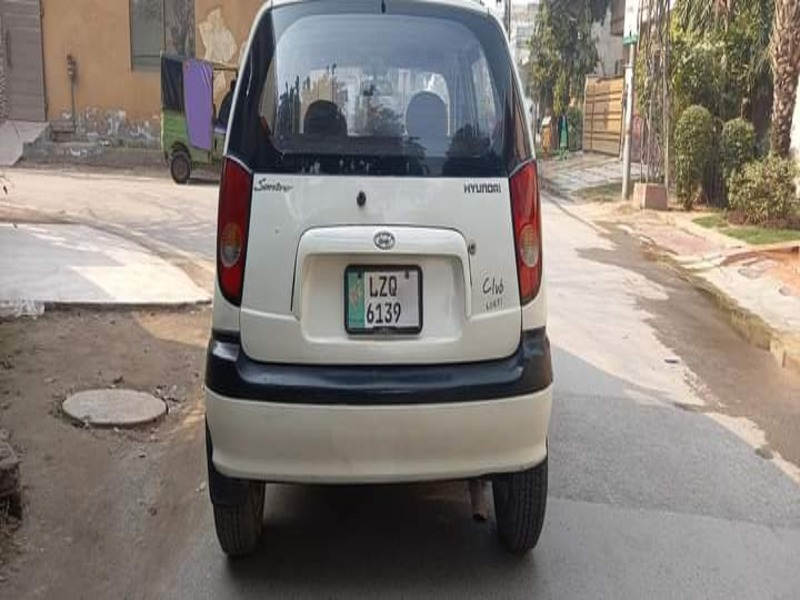License Plate: (339, 260, 431, 343)
